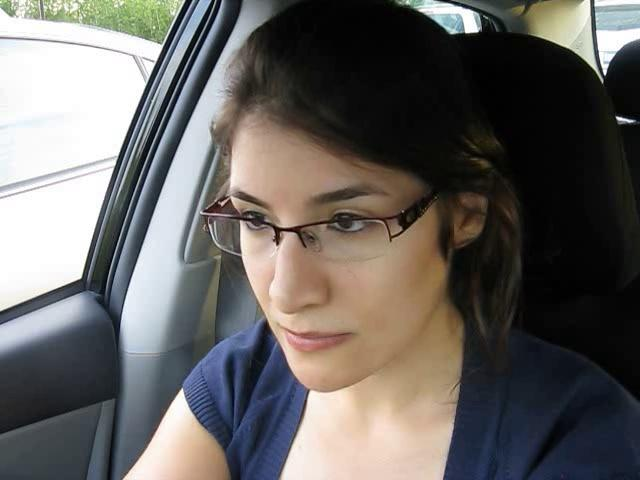no_yawn: (262, 309, 371, 363)
open_eyeL: (216, 202, 283, 252)
open_eyeR: (309, 193, 391, 255)
